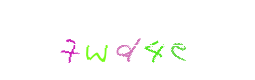4: (92, 0, 172, 80)
7: (30, 0, 110, 80)
D: (87, 0, 167, 80)
E: (101, 0, 181, 80)
W: (75, 0, 155, 80)
